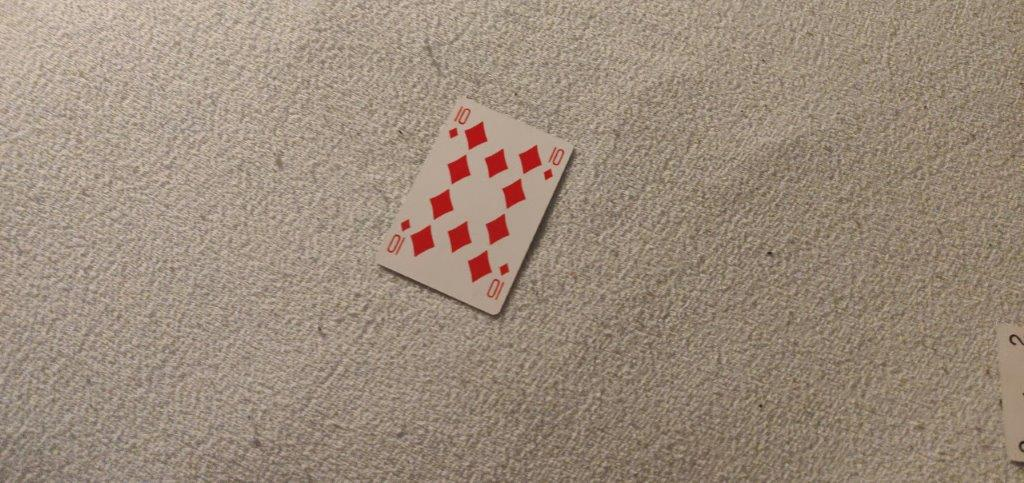10D: (446, 101, 471, 143), (542, 145, 568, 184)
